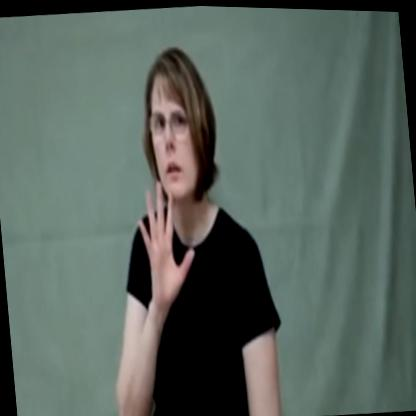Talk: (101, 34, 250, 334)
